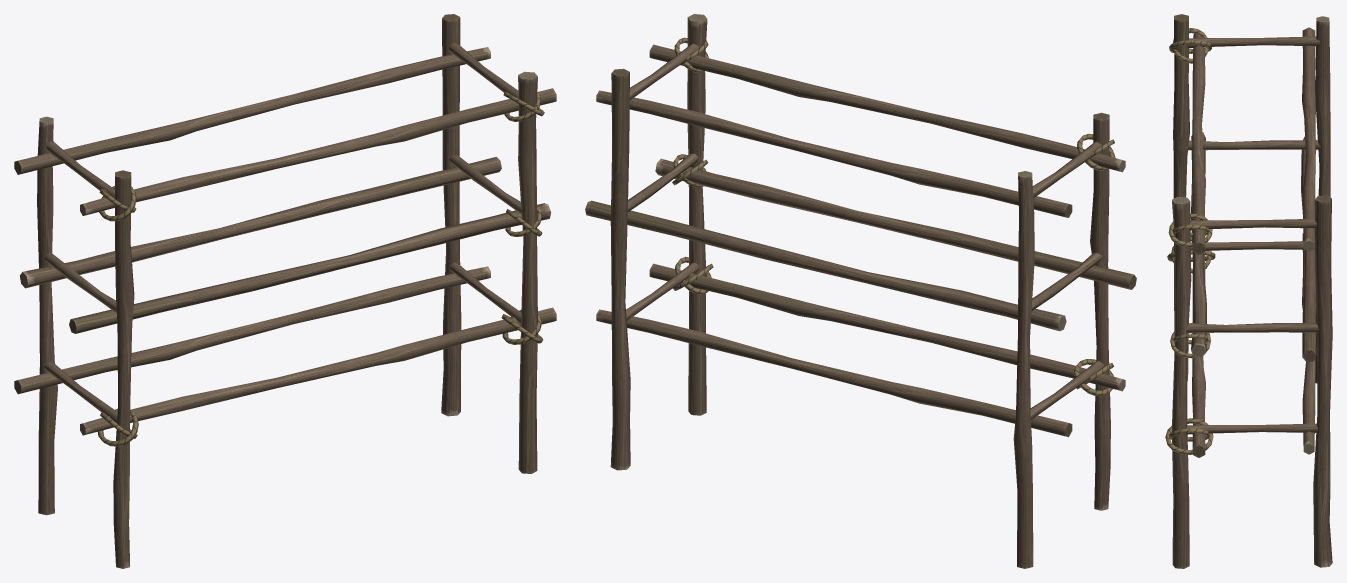
Rendered from SM_shelf_02.fbx.
The picture shows the model from 3 angles, left to right: view 1: azimuth 30°, elevation 25°; view 2: azimuth 150°, elevation 25°; view 3: azimuth 270°, elevation 25°; orthographic projection. The views are drawn at different scales.
Visible parts, largest first — view 1: Object32615; view 2: Object32615; view 3: Object32615.
Boxes of the visible parts, box(x1,y1,x2,y2) form: Object32615: box(14, 14, 556, 568); Object32615: box(585, 14, 1136, 568); Object32615: box(1165, 14, 1332, 568).
Bounding box in the file's own units: 114 × 88.93 × 36.79.
